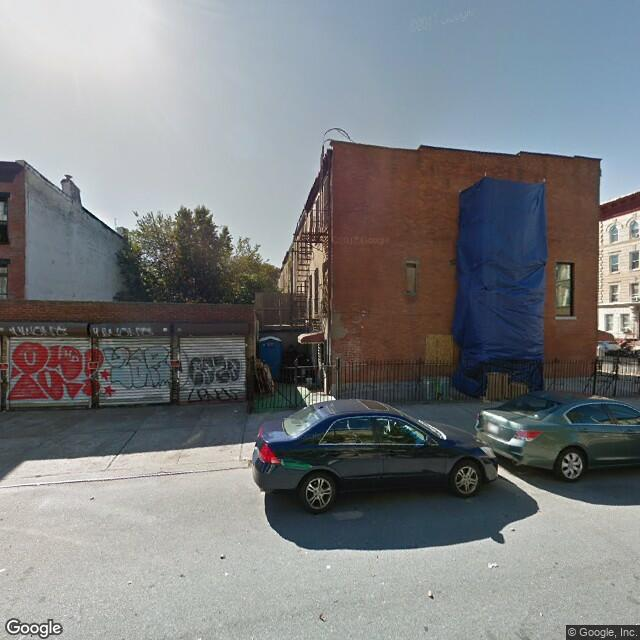litter: (487, 561, 497, 574)
